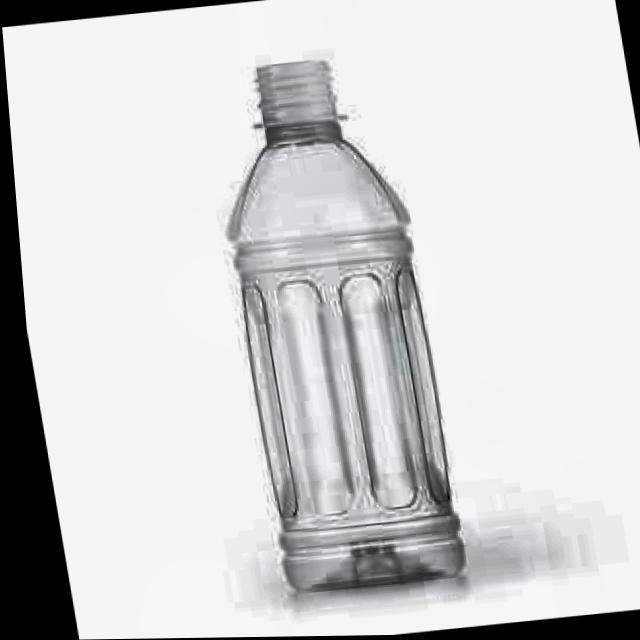Bottles: (166, 30, 484, 612)
